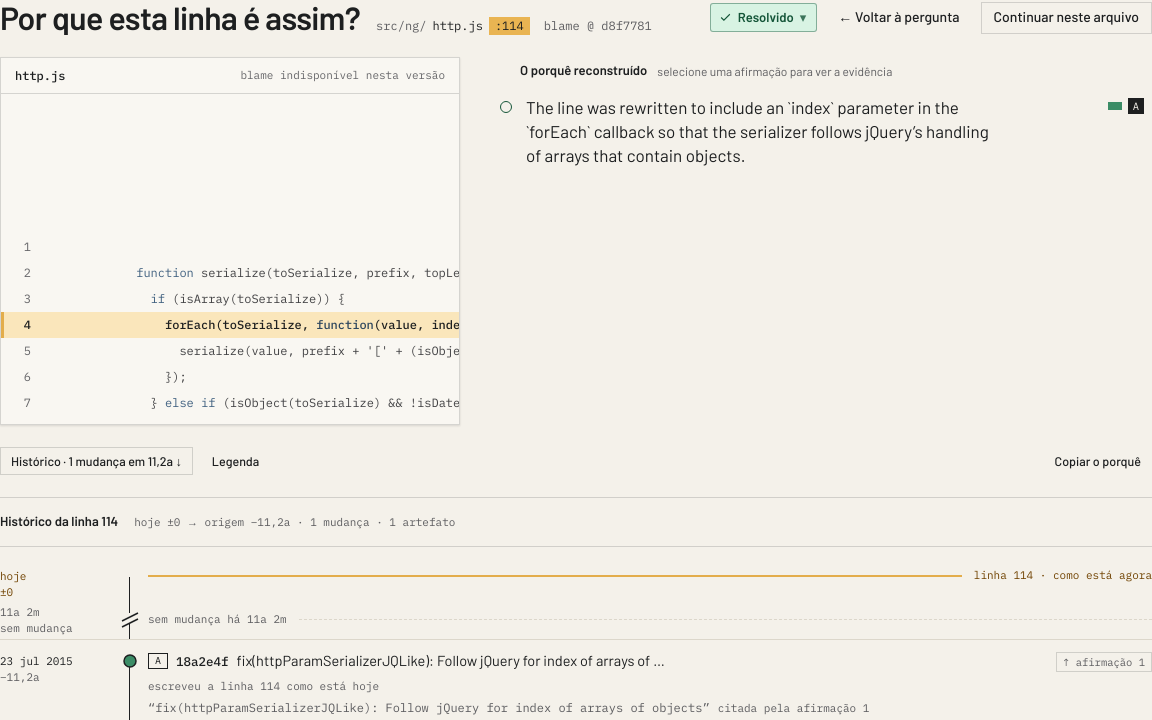
Test: the case screen in Portuguese › names the why, the verdict and its checks, and writes the confidence the Brazilian way
Check: the element "O porquê reconstruído" is shown, box [492,57,1151,173]
Check: the button "← Voltar à pergunta" is shown, box [825,2,973,34]
Click the button "Resolvido ▾": (764, 18) [710,3,817,32]
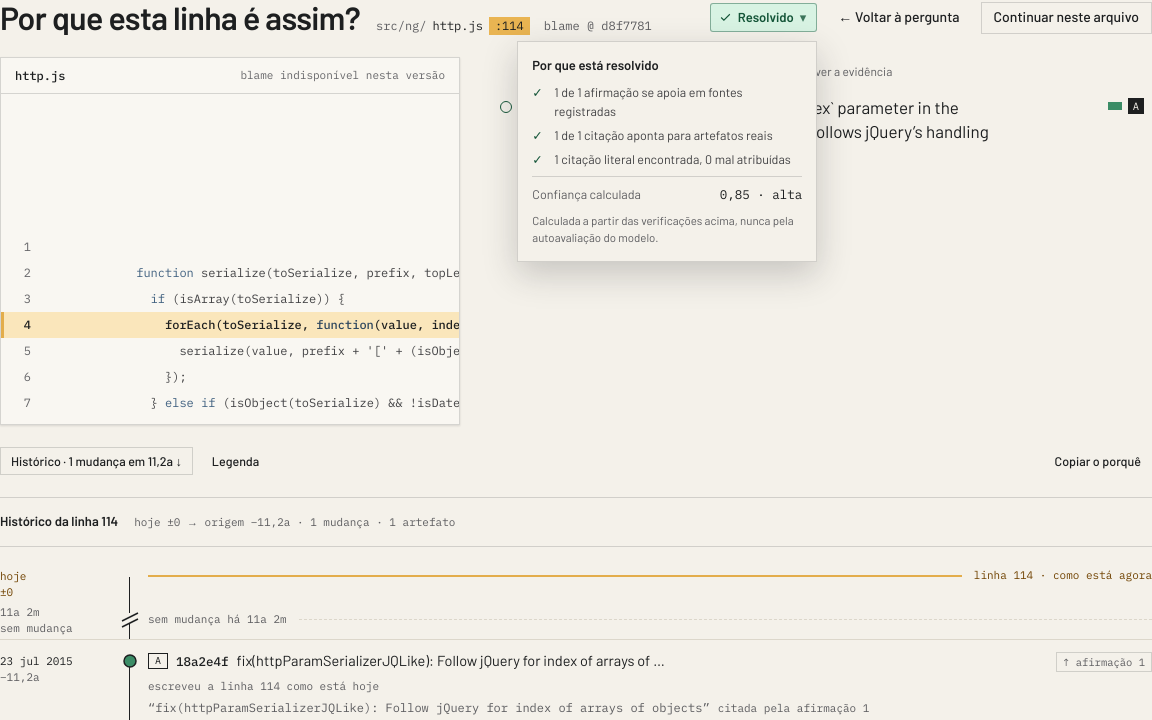
Check: the dialog "Por que está resolvido" shows "Confiança calculada", box [532,186,641,202]
Check: the dialog "Por que está resolvido" shows "Calculada a partir das verificações acima, nunca pela autoavaliação do modelo.", box [532,213,794,244]
